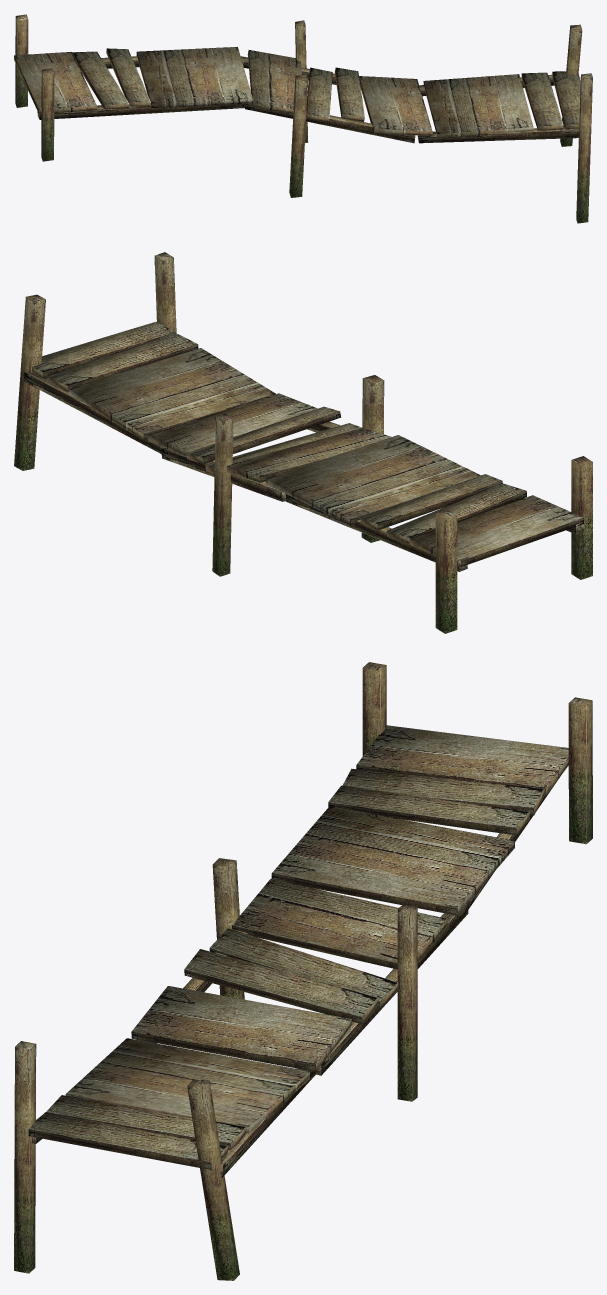
Rendered from cj_pond_brg.glb.
3 renders of one model, top to bottom at view 1: azimuth 30°, elevation 25°; view 2: azimuth 150°, elevation 25°; view 3: azimuth 270°, elevation 25°, orthographic. The views are drawn at different scales.
Parts seen in each view (by area): view 1: CJ_pond_brg; view 2: CJ_pond_brg; view 3: CJ_pond_brg.
Part boxes in pixels (<box>): CJ_pond_brg: <box>14,14,592,223</box>; CJ_pond_brg: <box>14,252,592,633</box>; CJ_pond_brg: <box>14,662,592,1280</box>.
Size of the model in its own units: 16.24 by 5.53 by 10.55.
Materials: 1 (1 with a texture image).
